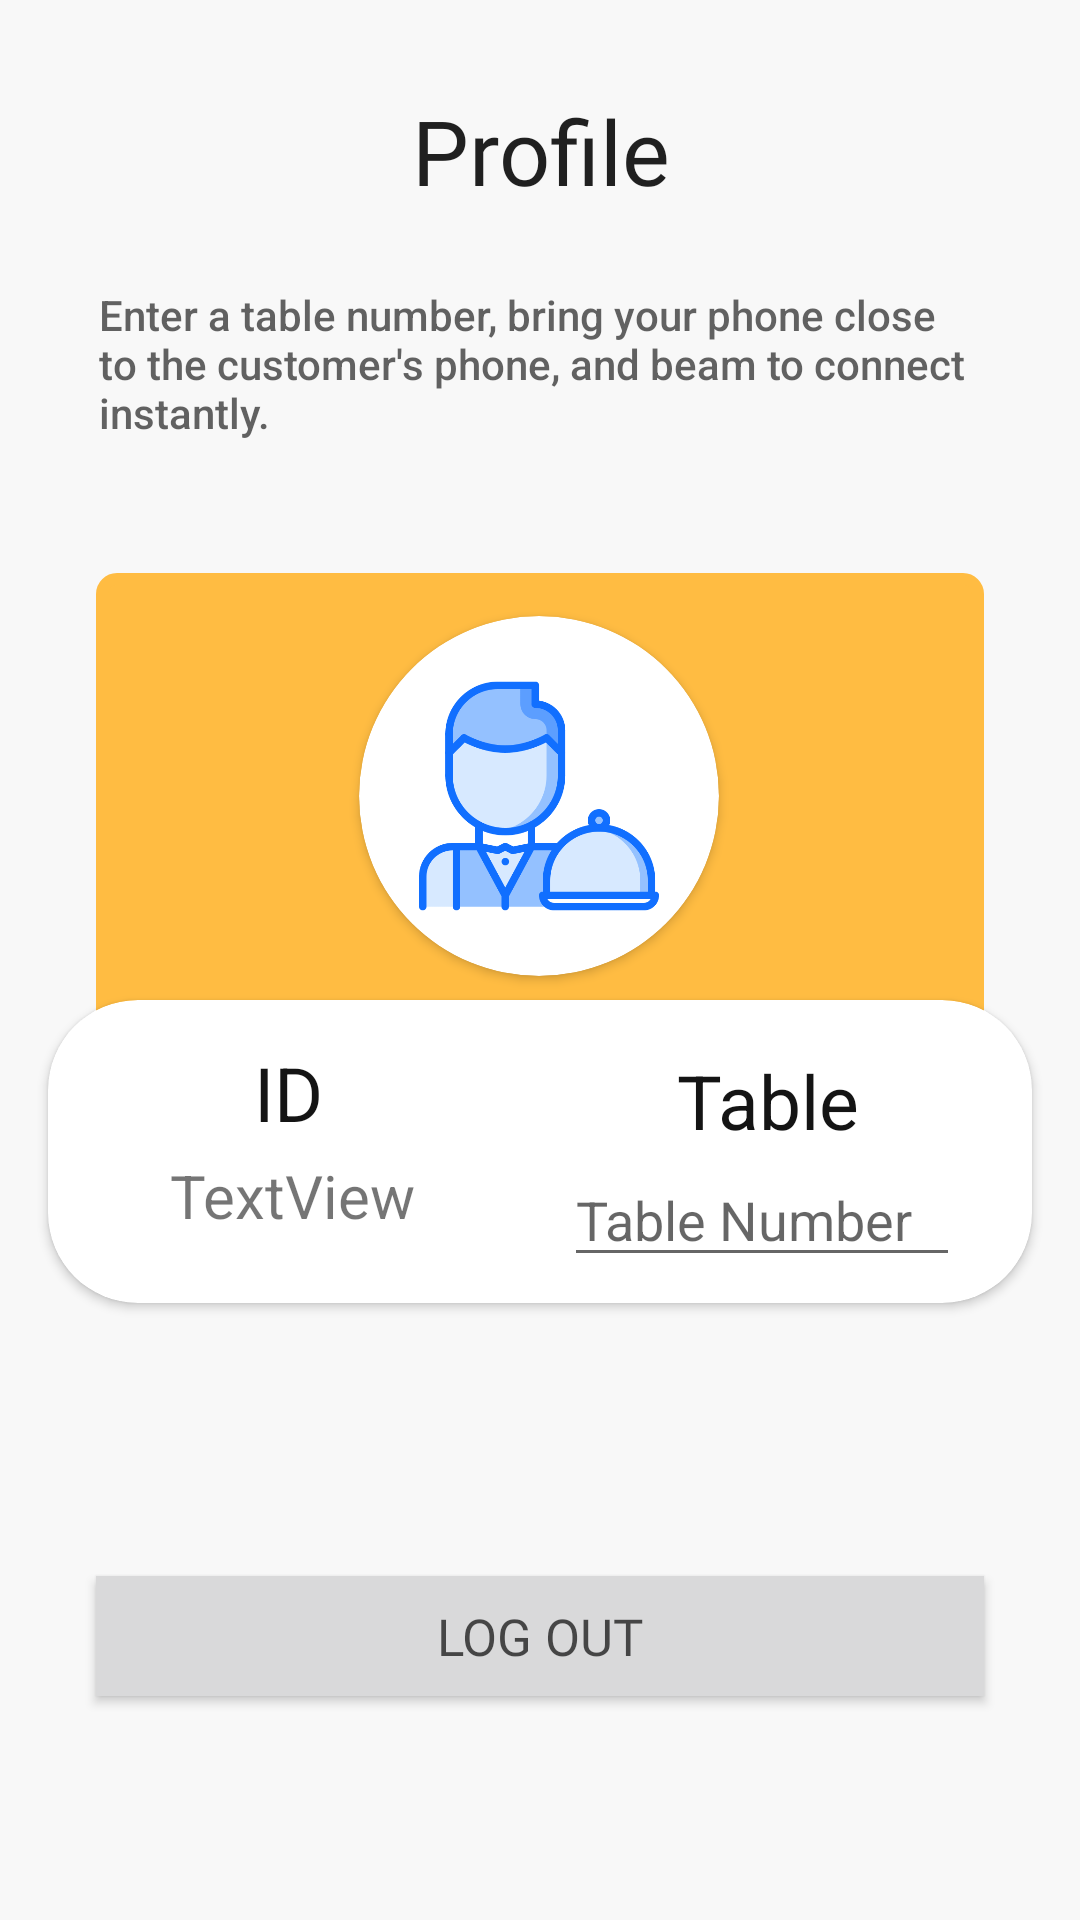

Icons on this 1080×1920 Android screen, each with its box as (x1, y1, x2, y2):
waiter: (419, 681, 659, 911)
